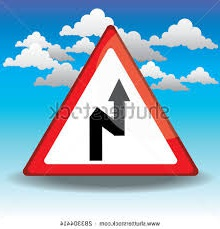Double_bend_right: (22, 21, 200, 177)
